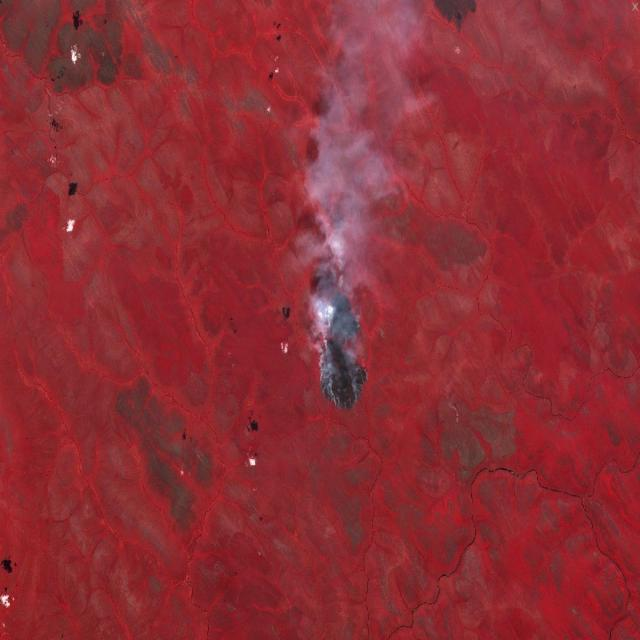fire: (314, 286, 371, 418)
